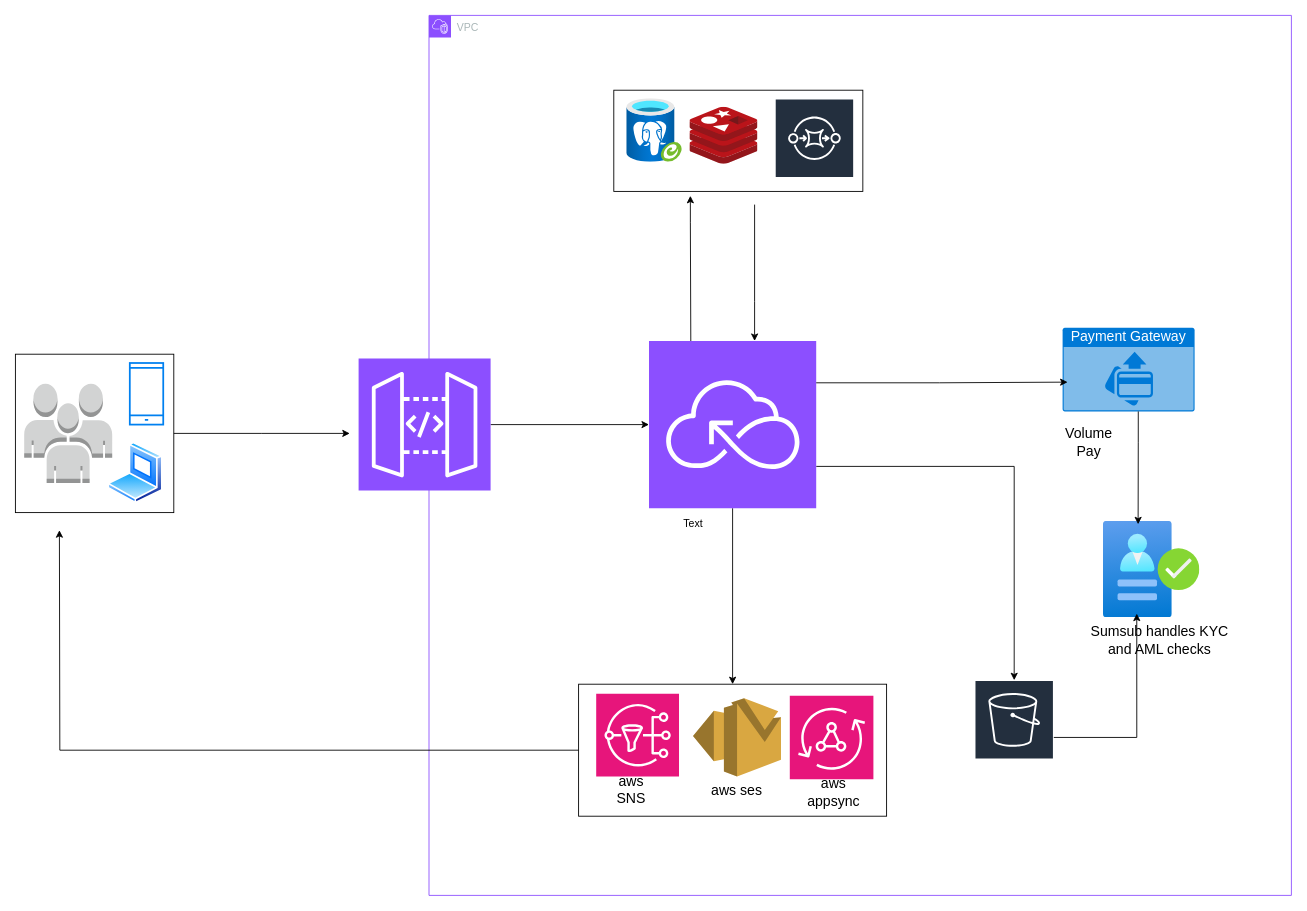
Image size: 1307x911. Some labels were removed from this diagram. Each missing label, with the centre of its shape:
"Amazon S3" goes at [1014,737].
"Amazon SQS" goes at [814,144].
